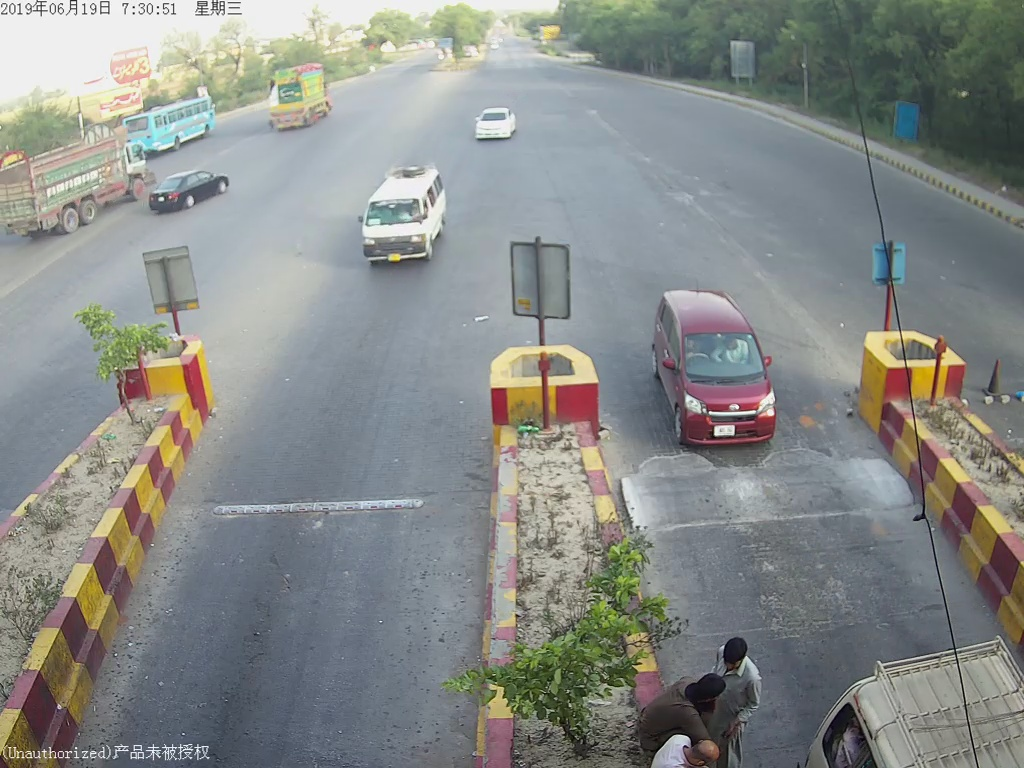Cat-1: (644, 281, 795, 447), (468, 98, 519, 142)
Cat-2: (353, 163, 446, 273)
